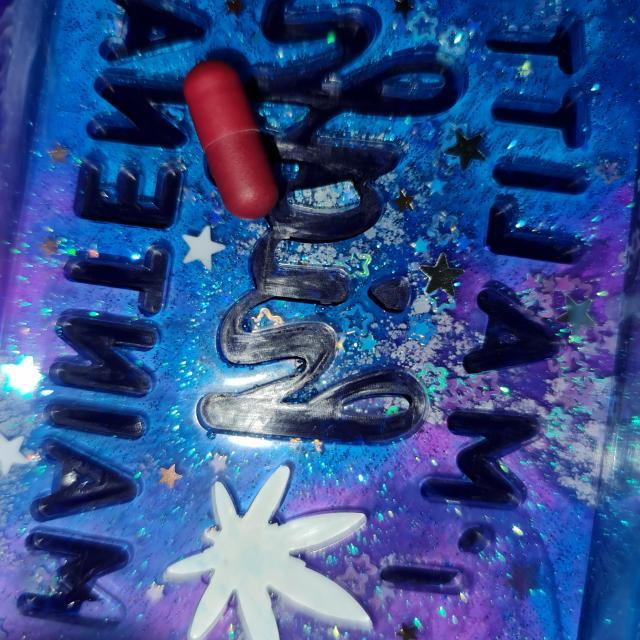pill: (182, 60, 280, 220)
